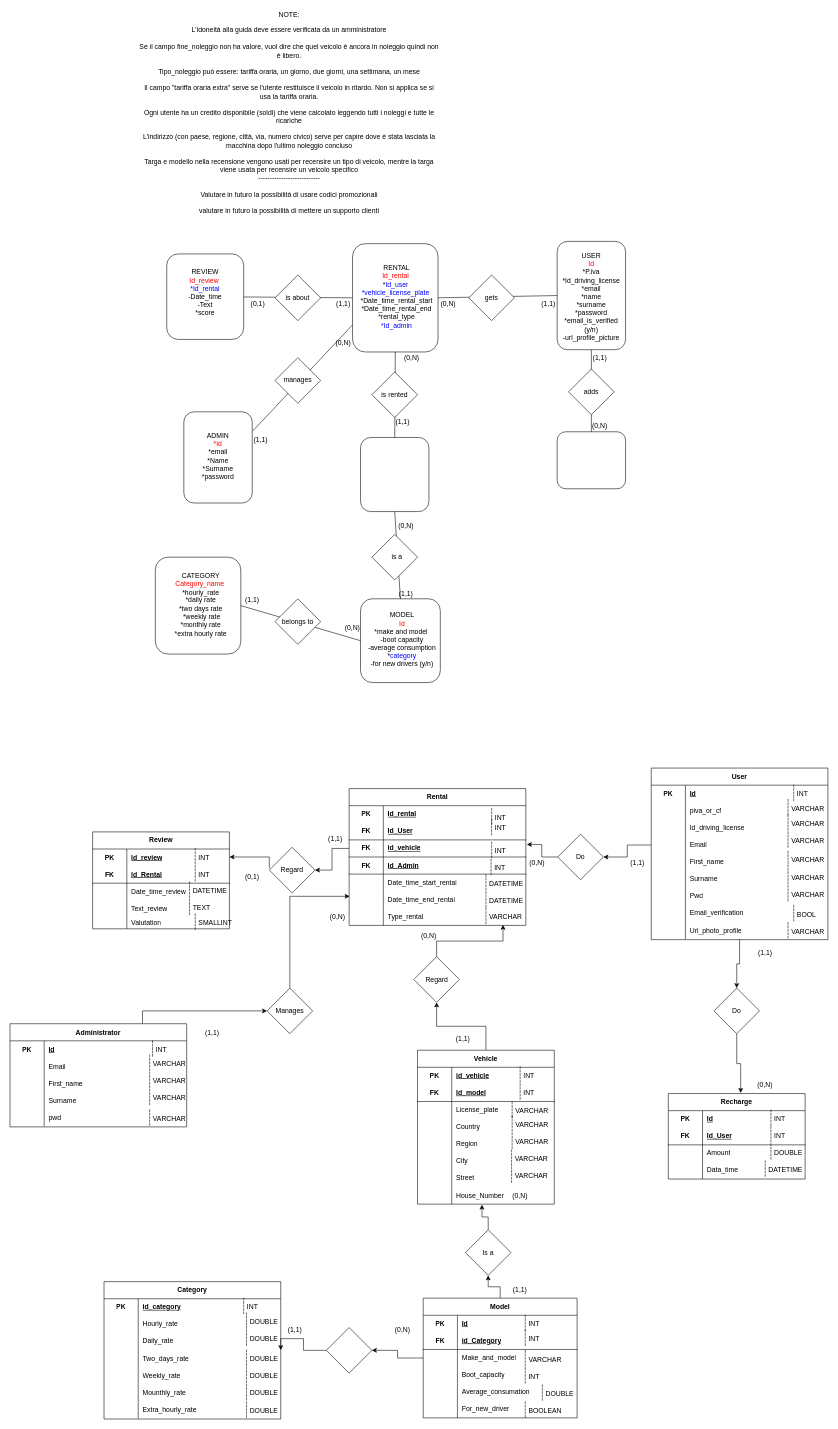
The diagram is 838 pixels wide and 1429 high, and some of its shapes have lost their labels. Here are the shapes that lost their labels. From the top down, the centre of each, then its label:
At (394,474): "VEHICLE license_plate *id model *country *region *city *street *number".
At (591,460): "RECHARGE Id *Id_user *amount -date_time".
At (349,1350): "Belong".
